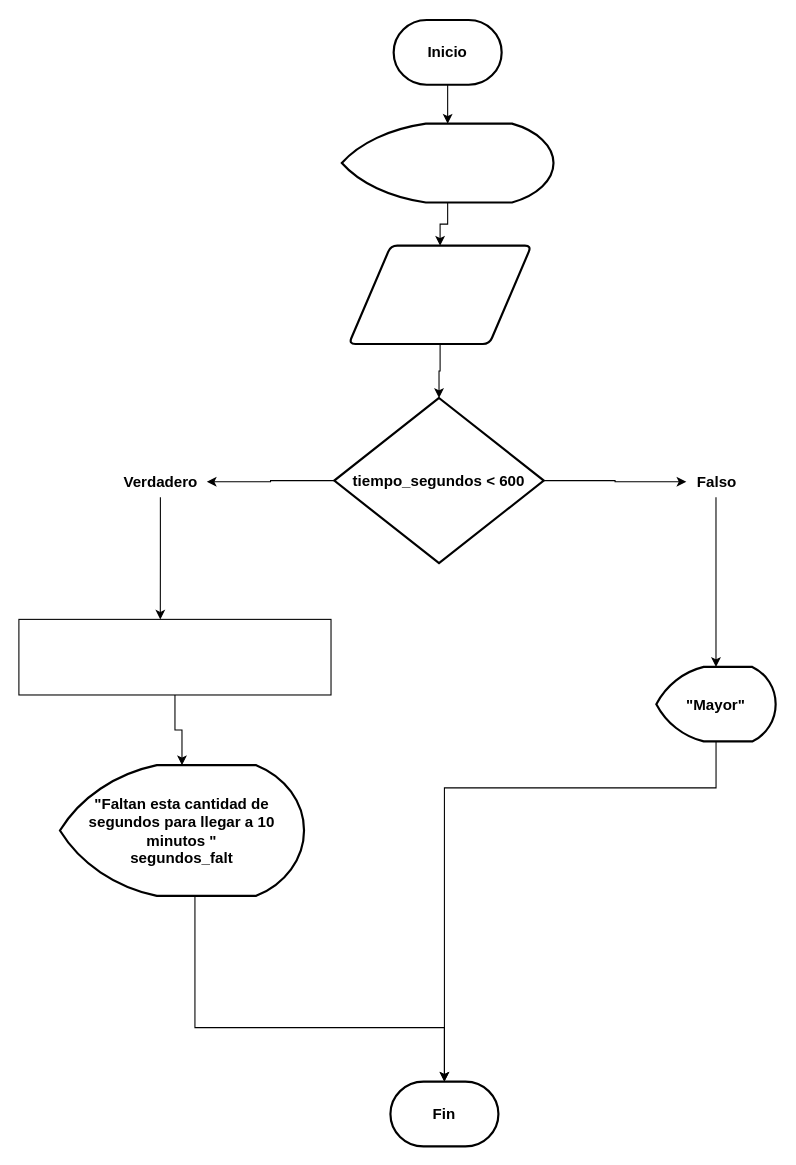
The diagram is 796 pixels wide and 1165 high, and some of its shapes have lost their labels. Each missing label, with the centre of its shape:
"Ingrese el tiempo en segundos": the point at 447,162
segundos_falt = 600 - tiempos_segundos: the point at 174,656
tiempo_segundos: the point at 439,294
